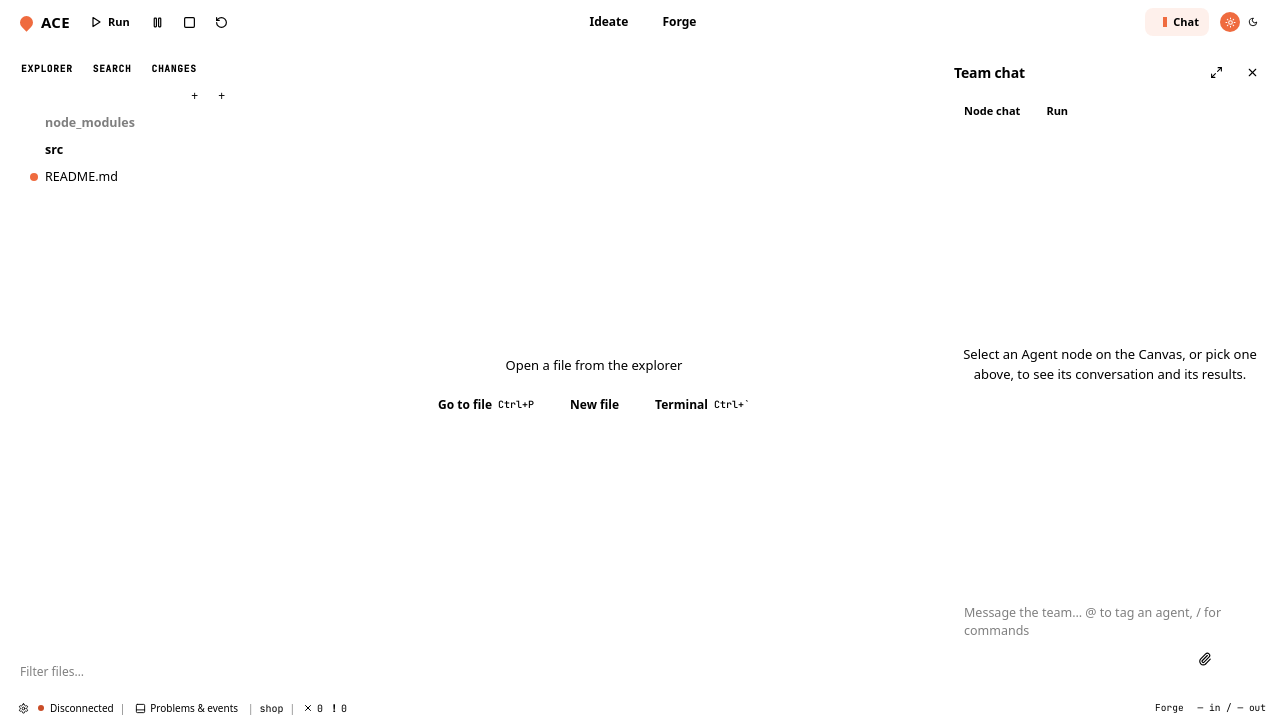
it: D299 Ctrl/⌘+P opens any file by a few letters › says when the file list failed, and Retry brings the files
Expected: the element with test id "forge" is shown, top-left (10, 58), bottom-right (764, 686)
Type keys "{Control>}p{/Control}"
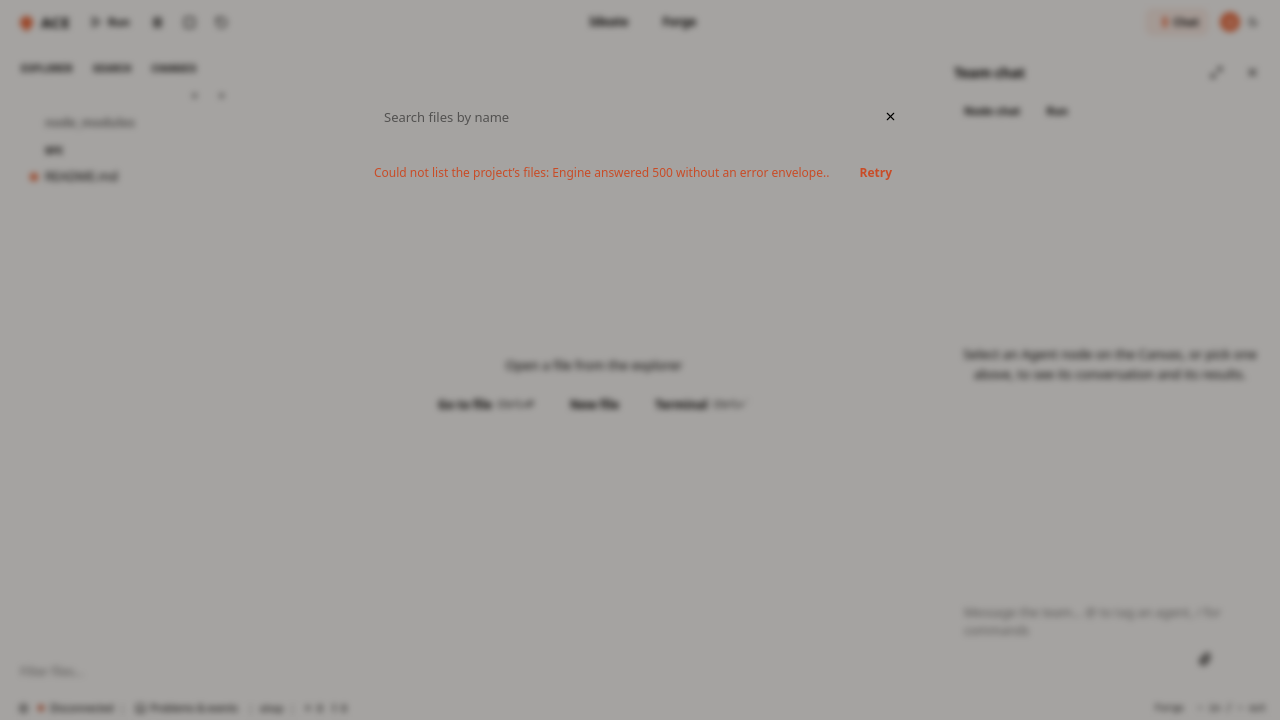
Expected: the text "Could not list the project’s files" is shown, top-left (374, 164), bottom-right (552, 181)
Click the button "Retry" at {"x": 876, "y": 173}, box top-left (846, 158), bottom-right (906, 188)
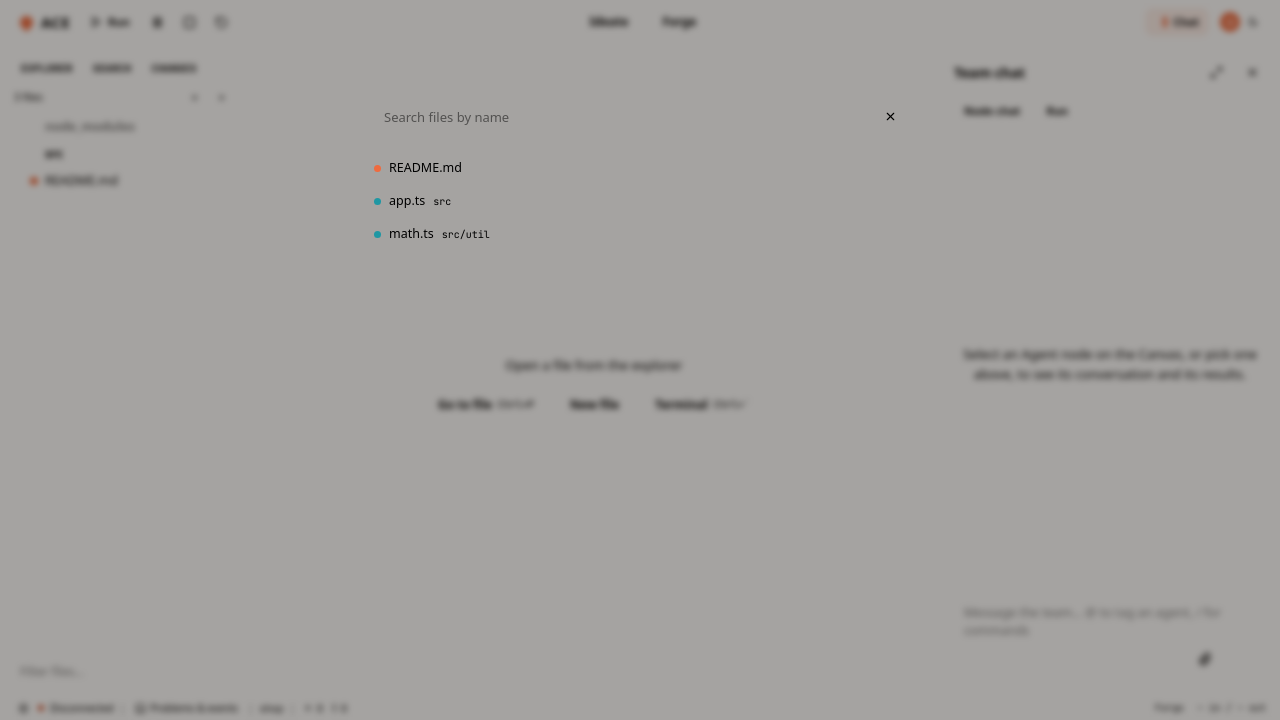
Expected: the number of options is 3, top-left (374, 159), bottom-right (462, 176); top-left (374, 192), bottom-right (451, 209); top-left (374, 225), bottom-right (490, 242)
